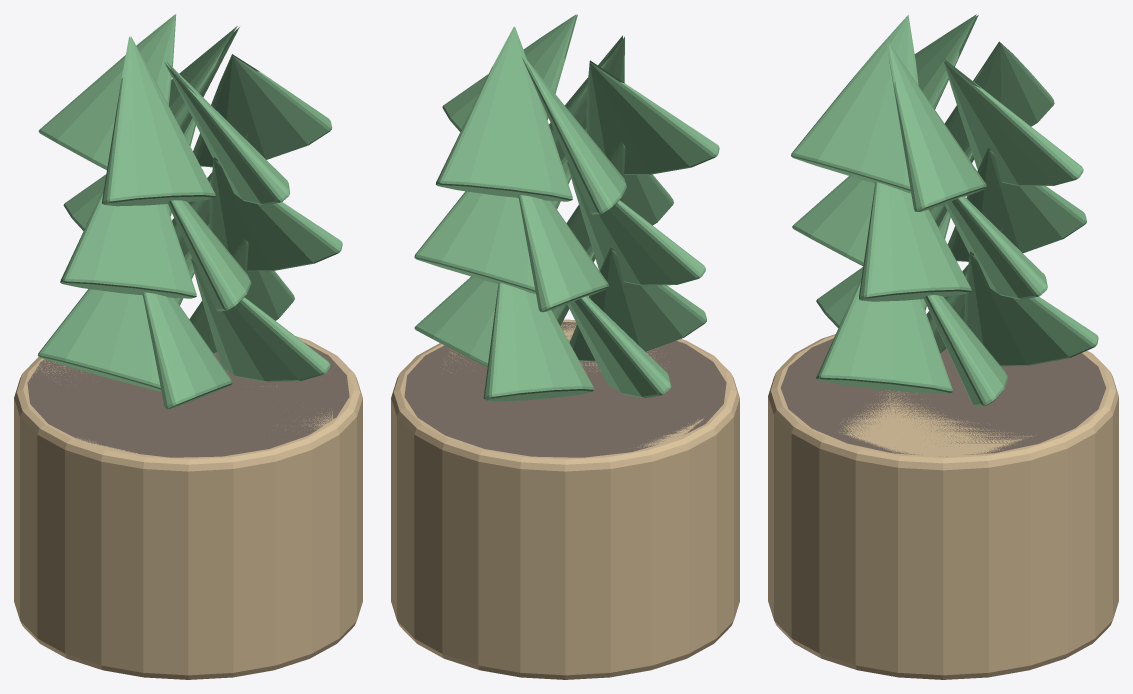
File: partitions___dividers_asset_catalog_64.glb
3 views of the same model, side by side, from view 1: azimuth 30°, elevation 25°; view 2: azimuth 150°, elevation 25°; view 3: azimuth 270°, elevation 25° (orthographic).
Parts seen in each view (by area): view 1: Cylinder; view 2: Cylinder; view 3: Cylinder.
Part boxes in pixels (x1,y1,x2,y2): Cylinder: [14, 14, 362, 679]; Cylinder: [391, 14, 739, 679]; Cylinder: [768, 14, 1118, 679].
Bounding box in the file's own units: 0.546 × 0.9875 × 0.546.
